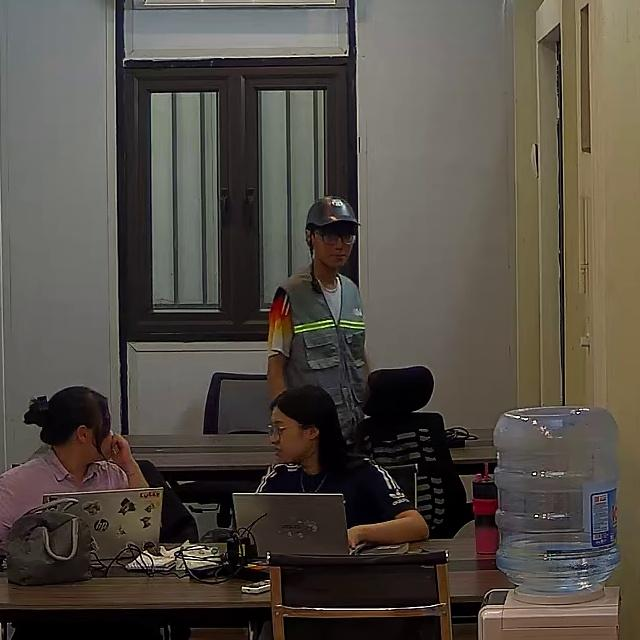helmet: (304, 195, 363, 231)
no_helmet: (271, 384, 360, 474), (26, 386, 110, 447)
none: (0, 449, 130, 558), (251, 453, 417, 538)
vest: (277, 268, 369, 418)
